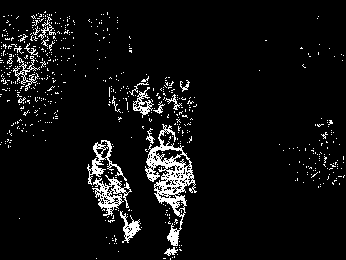person: (144, 128, 197, 260), (86, 138, 142, 245), (173, 78, 198, 143), (131, 70, 154, 130), (156, 76, 178, 129)
